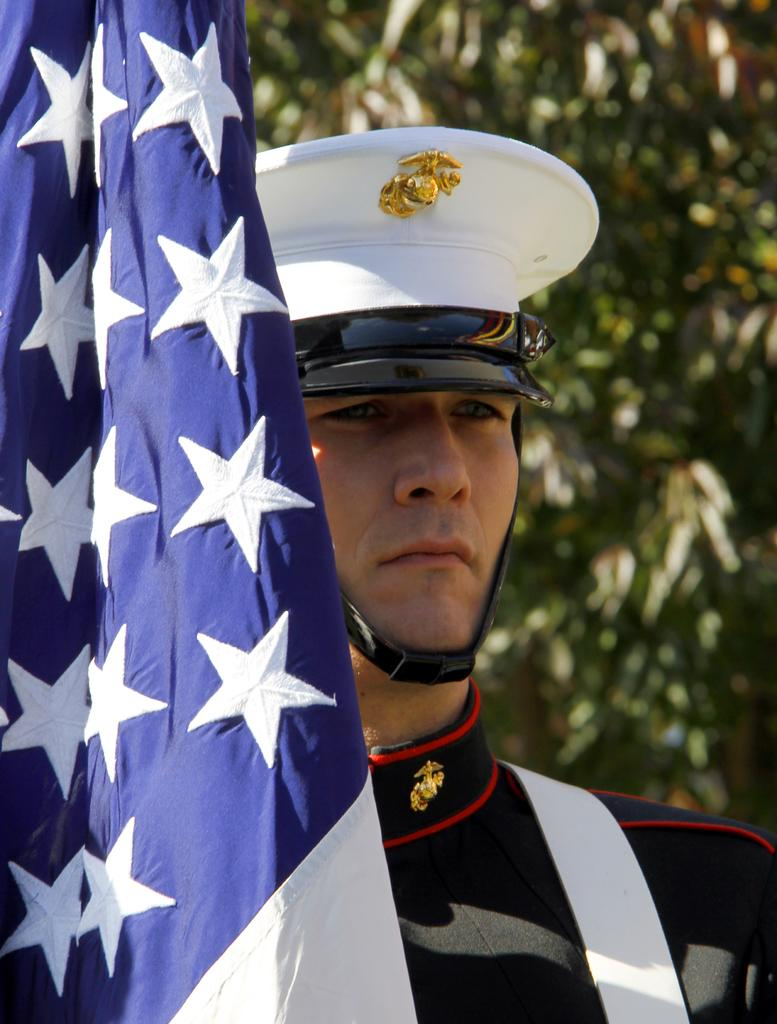Hat: (252, 120, 595, 686)
